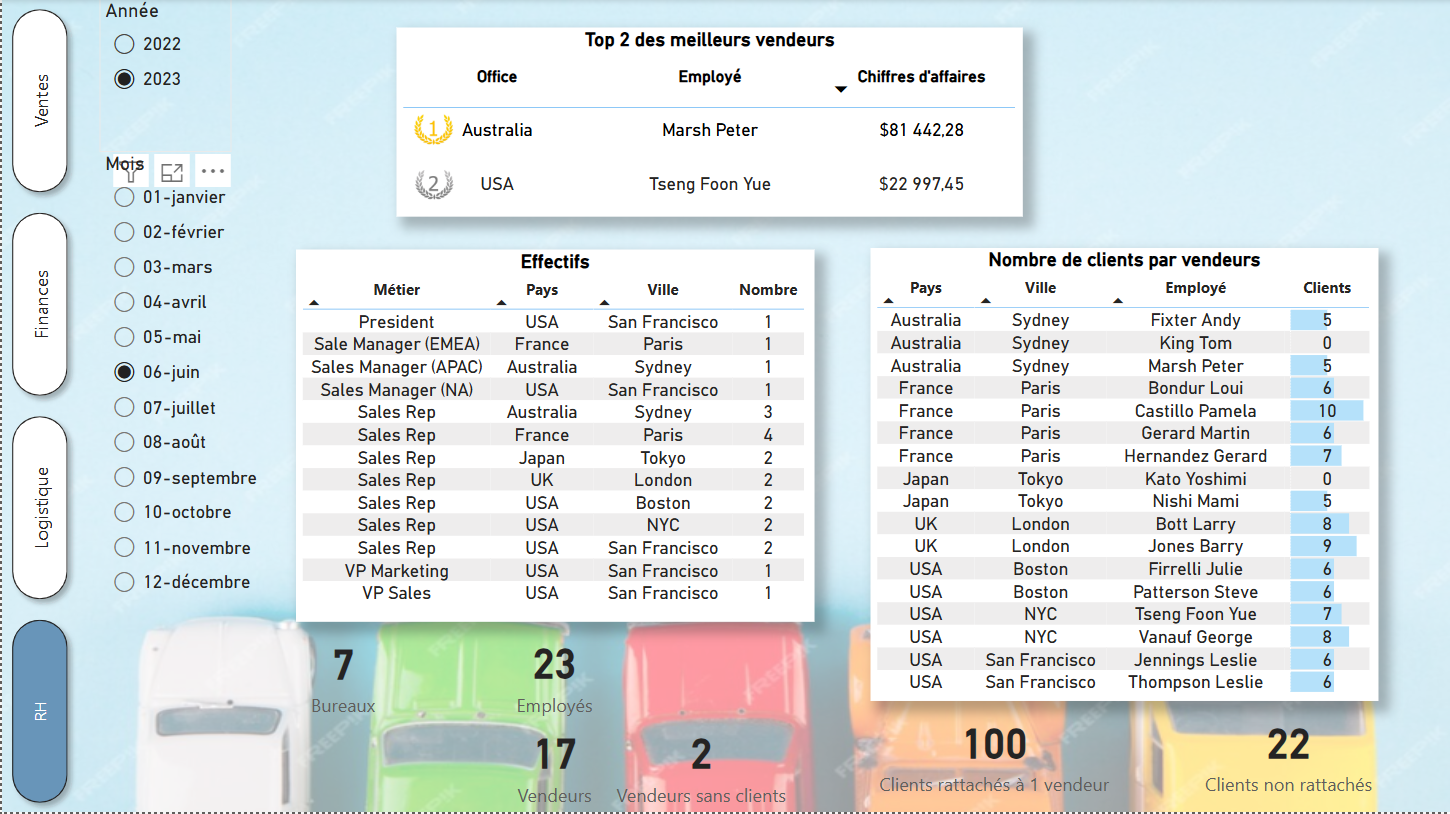

The dashboard page shown, as its layout file describes it:
{"tool":"powerbi","page":{"name":"RH","canvas":[1280,720],"ordinal":3},"visuals":[{"type":"tableEx","title":"Top 2 des meilleurs vendeurs","fields":{"Values":["RH1.Ville_office","RH1.Employé","RH1.CA"]},"box":[348.4,25.1,554.3,167.5],"z":0},{"type":"tableEx","title":"Effectifs","fields":{"Values":["RH2.Métier","RH2.Country","RH2.City","RH2.Nb d'employés"]},"box":[259.7,221.2,458.5,329.6],"z":1000},{"type":"image","box":[357.3,94.9,50.1,40.3],"z":2000},{"type":"slicer","title":"Année","fields":{"Values":["RH1.Année"]},"box":[86,0,116.4,135.2],"z":3000},{"type":"image","box":[357.3,144.2,50.1,39.4],"z":4000},{"type":"slicer","title":"Mois","fields":{"Values":["RH1.Libellé_Mois"]},"box":[86,135.2,165.7,413.7],"z":5000},{"type":"card","fields":{"Values":["RH3.Nb_clients"]},"box":[768.2,621.3,218,89.3],"z":6000},{"type":"card","fields":{"Values":["RH2.Nb d'employés"]},"box":[447.5,550.2,82.6,89.3],"z":7000},{"type":"card","fields":{"Values":["RH2.Nb d'employés"]},"box":[447.5,630.9,82.6,89.3],"z":8000},{"type":"card","fields":{"Values":["RH2.City"]},"box":[259.7,550.7,82.4,89.6],"z":9000},{"type":"tableEx","title":"Nombre de clients par vendeurs","fields":{"Values":["RH3.Pays_employé","RH3.Ville_employé","RH3.Employé","RH3.Nb_clients"]},"box":[768.2,220.9,449.4,400.4],"z":10000},{"type":"card","fields":{"Values":["RH4.customerName"]},"box":[1057.2,621.3,160.4,89.3],"z":11000},{"type":"pageNavigator","box":[0,0,67.2,720],"z":12000},{"type":"card","fields":{"Values":["RH3.Employé"]},"box":[530.1,630.9,177.6,89.3],"z":13000}]}

Visuals, with their boxes on the page's 1280x720 design canvas (x1, y1, x2, y2). These are canvas units, not pixel positions in the 1450x814 screenshot, which may show the page scaled, cropped or inside an application window:
"Top 2 des meilleurs vendeurs" tableEx: {"left": 348, "top": 25, "right": 903, "bottom": 193}
"Effectifs" tableEx: {"left": 260, "top": 221, "right": 718, "bottom": 551}
image: {"left": 357, "top": 95, "right": 407, "bottom": 135}
"Année" slicer: {"left": 86, "top": 0, "right": 202, "bottom": 135}
image: {"left": 357, "top": 144, "right": 407, "bottom": 184}
"Mois" slicer: {"left": 86, "top": 135, "right": 252, "bottom": 549}
card - RH3.Nb_clients: {"left": 768, "top": 621, "right": 986, "bottom": 711}
card - RH2.Nb d'employés: {"left": 448, "top": 550, "right": 530, "bottom": 640}
card - RH2.Nb d'employés: {"left": 448, "top": 631, "right": 530, "bottom": 720}
card - RH2.City: {"left": 260, "top": 551, "right": 342, "bottom": 640}
"Nombre de clients par vendeurs" tableEx: {"left": 768, "top": 221, "right": 1218, "bottom": 621}
card - RH4.customerName: {"left": 1057, "top": 621, "right": 1218, "bottom": 711}
pageNavigator: {"left": 0, "top": 0, "right": 67, "bottom": 720}
card - RH3.Employé: {"left": 530, "top": 631, "right": 708, "bottom": 720}
